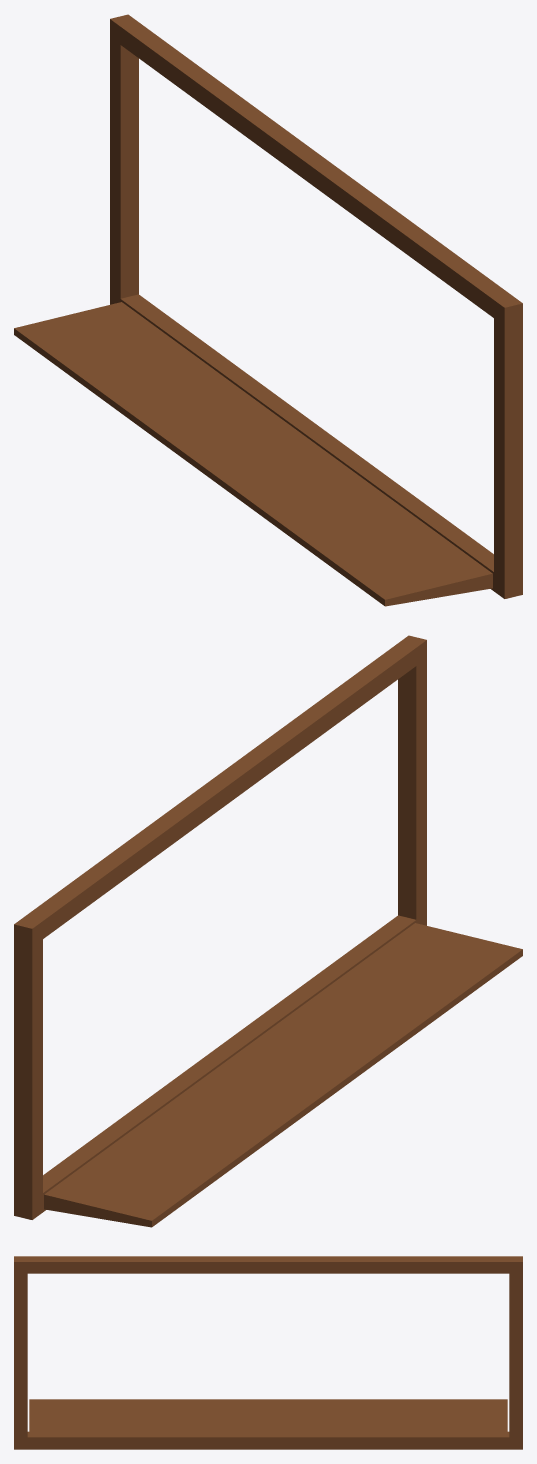
The model's file is Marco.fbx.
3 renders of one model, top to bottom at view 1: azimuth 30°, elevation 25°; view 2: azimuth 150°, elevation 25°; view 3: azimuth 270°, elevation 25°, orthographic. The views are drawn at different scales.
Parts seen in each view (by area): view 1: Cube.012; view 2: Cube.012; view 3: Cube.012.
Boxes of the visible parts, x1,y1,x2,y2 form: Cube.012: (14, 14, 522, 606); Cube.012: (14, 635, 522, 1227); Cube.012: (14, 1256, 522, 1449).
Bounding box in the file's own units: 68.04 × 150 × 369.
